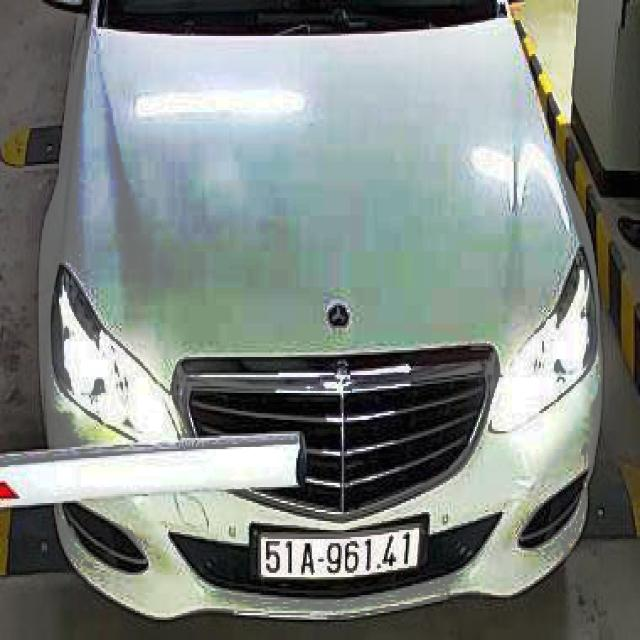license_plate: (260, 527, 421, 577)
